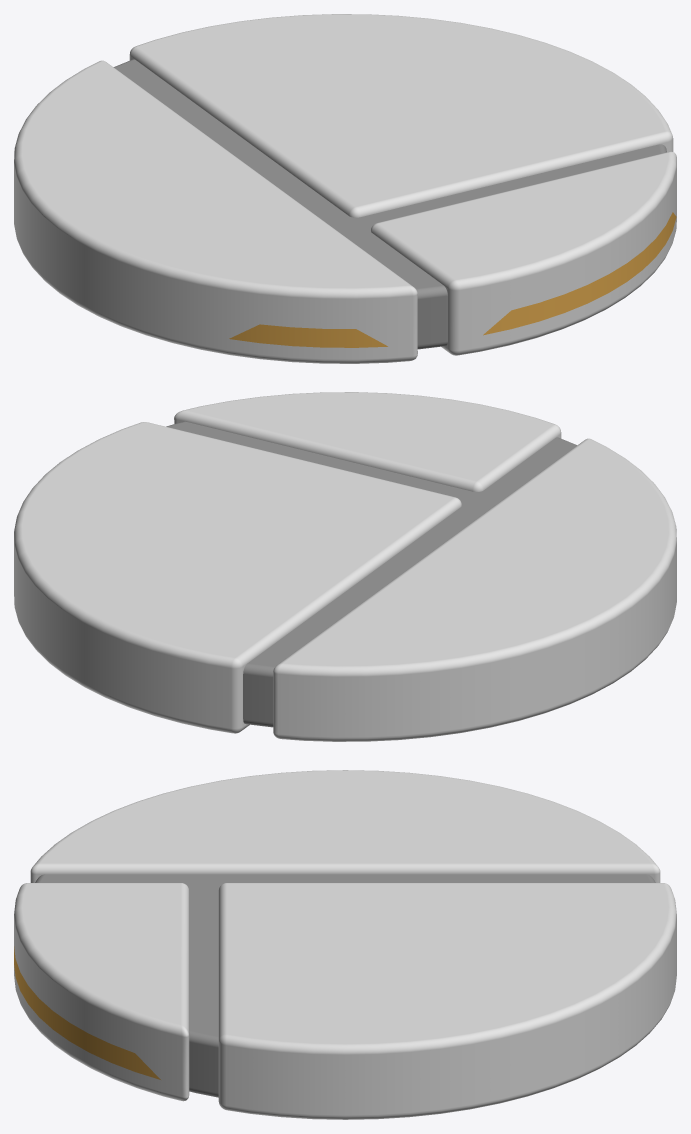
Rendered from lab_bot.fbx.
3 views of the same model, one above another, from view 1: azimuth 30°, elevation 25°; view 2: azimuth 150°, elevation 25°; view 3: azimuth 270°, elevation 25° (orthographic).
Visible parts, largest first — view 1: lab_bot; view 2: lab_bot; view 3: lab_bot.
Part boxes in pixels (x1,y1,x2,y2): lab_bot: (14,14,676,363); lab_bot: (14,392,676,741); lab_bot: (14,770,676,1119).
Bounding box in the file's own units: 80 × 10 × 80.
